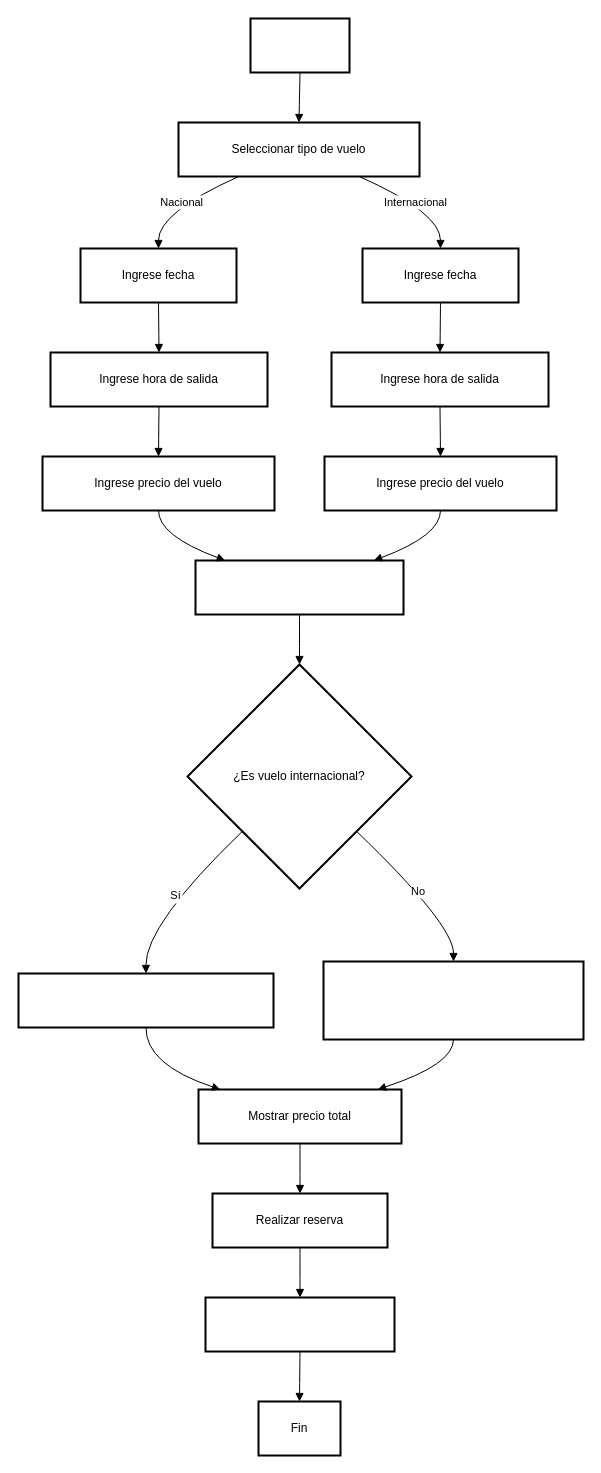
The diagram is 601 pixels wide and 1473 high, and some of its shapes have lost their labels. Each missing label, with the centre of its shape:
"Agregar impuestos de viaje" belongs at (145,1000).
"Calcular precio sin impuestos" belongs at (453,1000).
"Calcular precio total" belongs at (299,587).
"Confirmar reserva" belongs at (299,1324).
"Inicio" belongs at (299,45).
